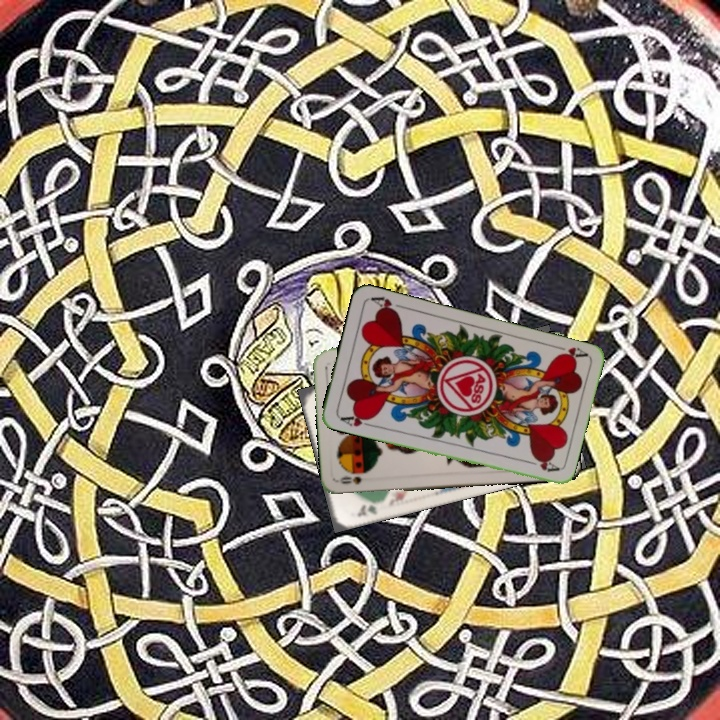GK: (354, 500, 380, 519)
HA: (549, 341, 589, 363), (336, 409, 376, 429)
SO: (336, 472, 364, 487)
